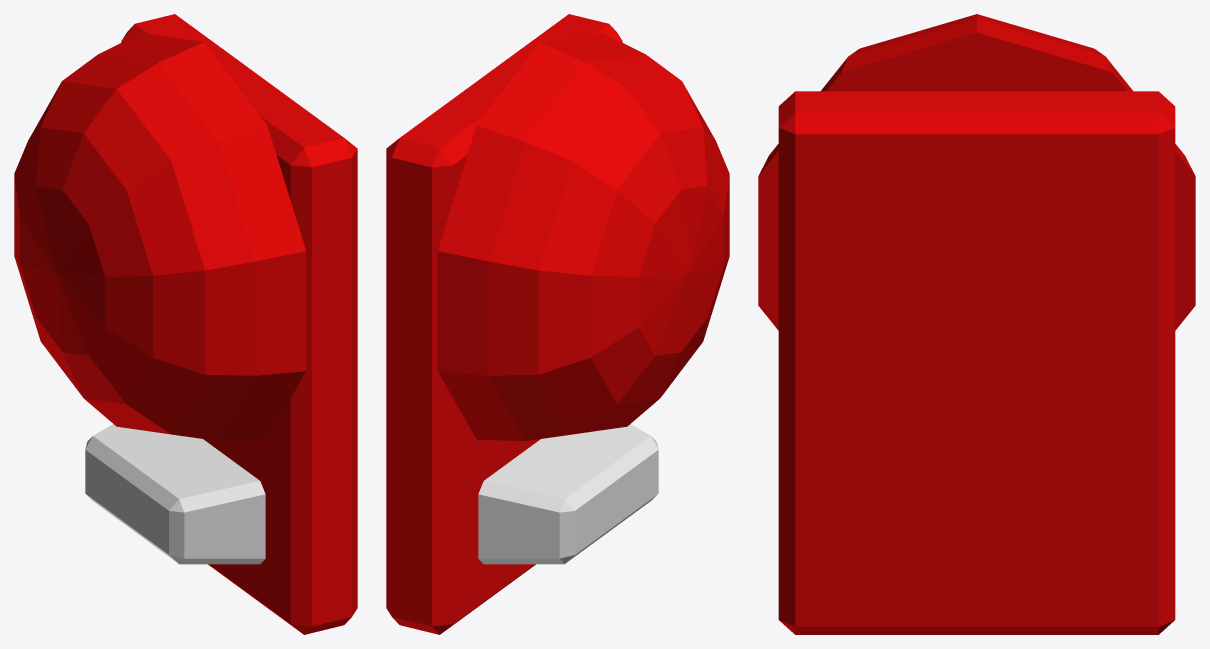
File: FireAlarm.fbx
3 renders of one model, left to right at view 1: azimuth 30°, elevation 25°; view 2: azimuth 150°, elevation 25°; view 3: azimuth 270°, elevation 25°, orthographic. The views are drawn at different scales.
Parts seen in each view (by area): view 1: pSphere2; view 2: pSphere2; view 3: pSphere2.
Part boxes in pixels (<box>): pSphere2: <box>14,14,357,634</box>; pSphere2: <box>386,14,729,634</box>; pSphere2: <box>758,14,1195,634</box>.
Size of the model in its own units: 1.34 by 3.13 by 2.17.
